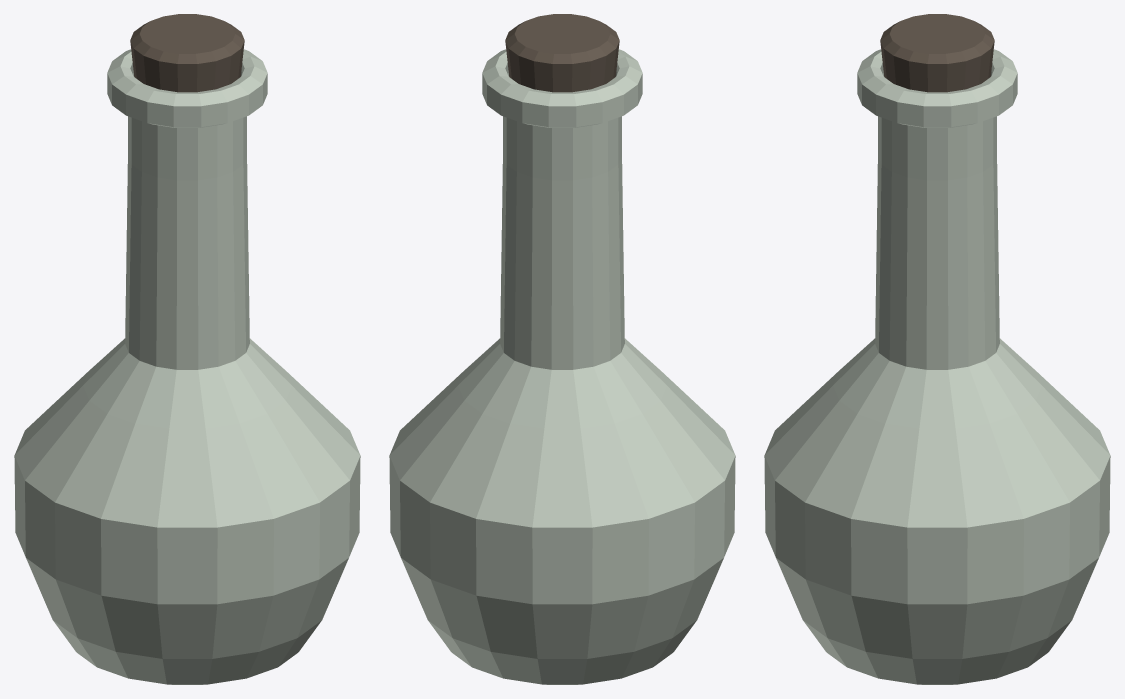
Rendered from potion.fbx.
3 views of the same model, side by side, from view 1: azimuth 30°, elevation 25°; view 2: azimuth 150°, elevation 25°; view 3: azimuth 270°, elevation 25° (orthographic).
Visible parts, largest first — view 1: 柱体.001; view 2: 柱体.001; view 3: 柱体.001.
Part boxes in pixels (x1,y1,x2,y2): 柱体.001: [14, 14, 360, 684]; 柱体.001: [389, 14, 735, 684]; 柱体.001: [764, 14, 1110, 684].
Bounding box in the file's own units: 22.77 × 45.67 × 23.12.
